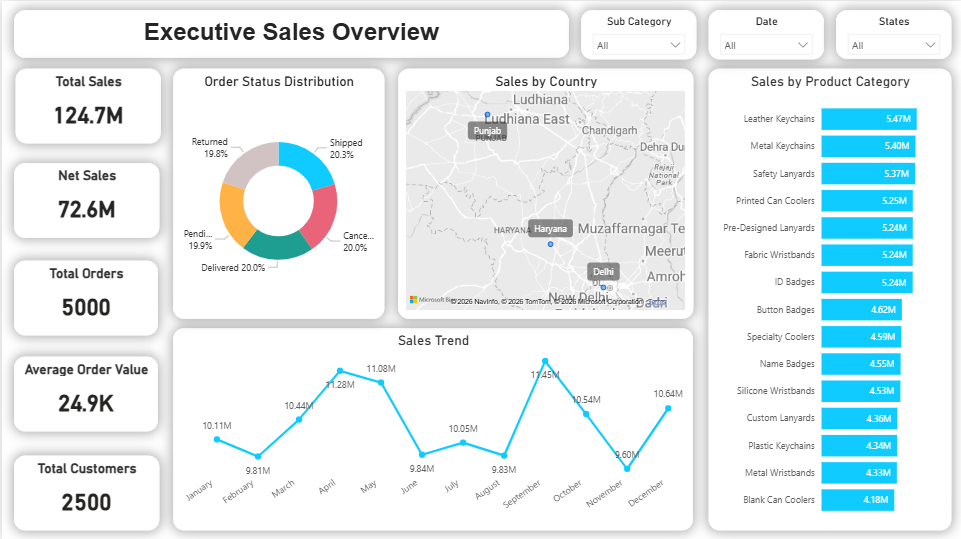

Layout of this report page (visuals, bound fields, positions):
{"tool":"powerbi","page":{"name":"Page 1","canvas":[1280,720],"ordinal":0},"visuals":[{"type":"textbox","box":[16,12,740,64],"z":0},{"type":"card","title":"Total Sales","fields":{"Values":["wrist_band orders_clean.Total Sales"]},"box":[18,90,194,100],"z":1000},{"type":"card","title":"Total Orders","fields":{"Values":["wrist_band orders_clean.Total Orders"]},"box":[16,346,192,100],"z":2000},{"type":"card","title":"Net Sales","fields":{"Values":["wrist_band order_items_clean.Net Sales"]},"box":[16,216,194,100],"z":3000},{"type":"card","title":"Average Order Value","fields":{"Values":["wrist_band orders_clean.Average Order Value"]},"box":[16,474,192,100],"z":4000},{"type":"card","title":"Total Customers","fields":{"Values":["wrist_band customers_clean.Total Customers"]},"box":[15,606.2,193.8,100],"z":5000},{"type":"lineChart","title":"Sales Trend","fields":{"Category":["wrist_band orders_clean.order_date.Variation.Date Hierarchy.Month"],"Y":["wrist_band orders_clean.Total Sales"]},"box":[228.7,436.5,693.5,270.2],"z":6000},{"type":"clusteredBarChart","title":"Sales by Product Category","fields":{"Category":["wrist_band products_clean.category"],"Y":["wrist_band order_items_clean.Category Sales"]},"box":[942,90,324,616],"z":7000},{"type":"donutChart","title":"Order Status Distribution","fields":{"Category":["wrist_band orders_clean.order_status"],"Y":["wrist_band orders_clean.Total Orders"]},"box":[228,90,282,334],"z":8000},{"type":"map","title":"Sales by Country","fields":{"Category":["wrist_band customers_clean.state"]},"box":[528,90,394,334],"z":9000},{"type":"slicer","title":"Sub Category","fields":{"Values":["wrist_band products_clean.sub_category"]},"box":[772,12,154,66],"z":10000},{"type":"slicer","title":"Date","fields":{"Values":["wrist_band orders_clean.order_date"]},"box":[942,12,154,66],"z":11000},{"type":"slicer","title":"States","fields":{"Values":["wrist_band customers_clean.state"]},"box":[1112,12,154,65],"z":12000}]}

Visuals, with their boxes in screenshot pixels (x1, y1, x2, y2), scaled from the page's 1280x720 canvas onto the 961x539 screenshot:
textbox: box=[12, 9, 568, 57]
"Total Sales" card: box=[14, 67, 159, 142]
"Total Orders" card: box=[12, 259, 156, 334]
"Net Sales" card: box=[12, 162, 158, 237]
"Average Order Value" card: box=[12, 355, 156, 430]
"Total Customers" card: box=[11, 454, 157, 529]
"Sales Trend" lineChart: box=[172, 327, 692, 529]
"Sales by Product Category" clusteredBarChart: box=[707, 67, 950, 529]
"Order Status Distribution" donutChart: box=[171, 67, 383, 317]
"Sales by Country" map: box=[396, 67, 692, 317]
"Sub Category" slicer: box=[580, 9, 695, 58]
"Date" slicer: box=[707, 9, 823, 58]
"States" slicer: box=[835, 9, 950, 58]
